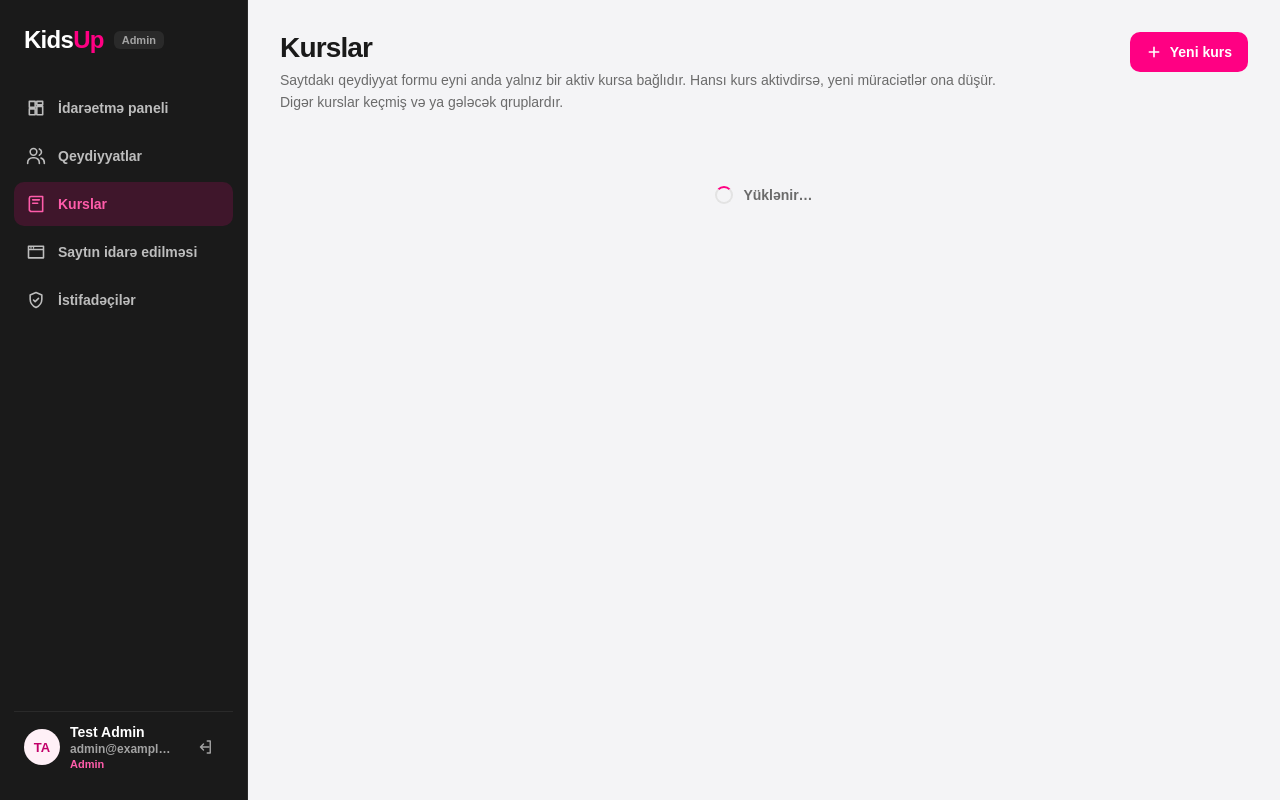
it: the dashboard › does not say that every new application was looked at while the list is still on its way
Expected: the navigation bar named "Admin menyu" is shown, [14,86,233,322]
Expected: the heading "Kurslar" is shown, [280,32,372,63]
Click the button "İdarəetmə paneli".
click(124, 108)  # box [14,86,233,130]
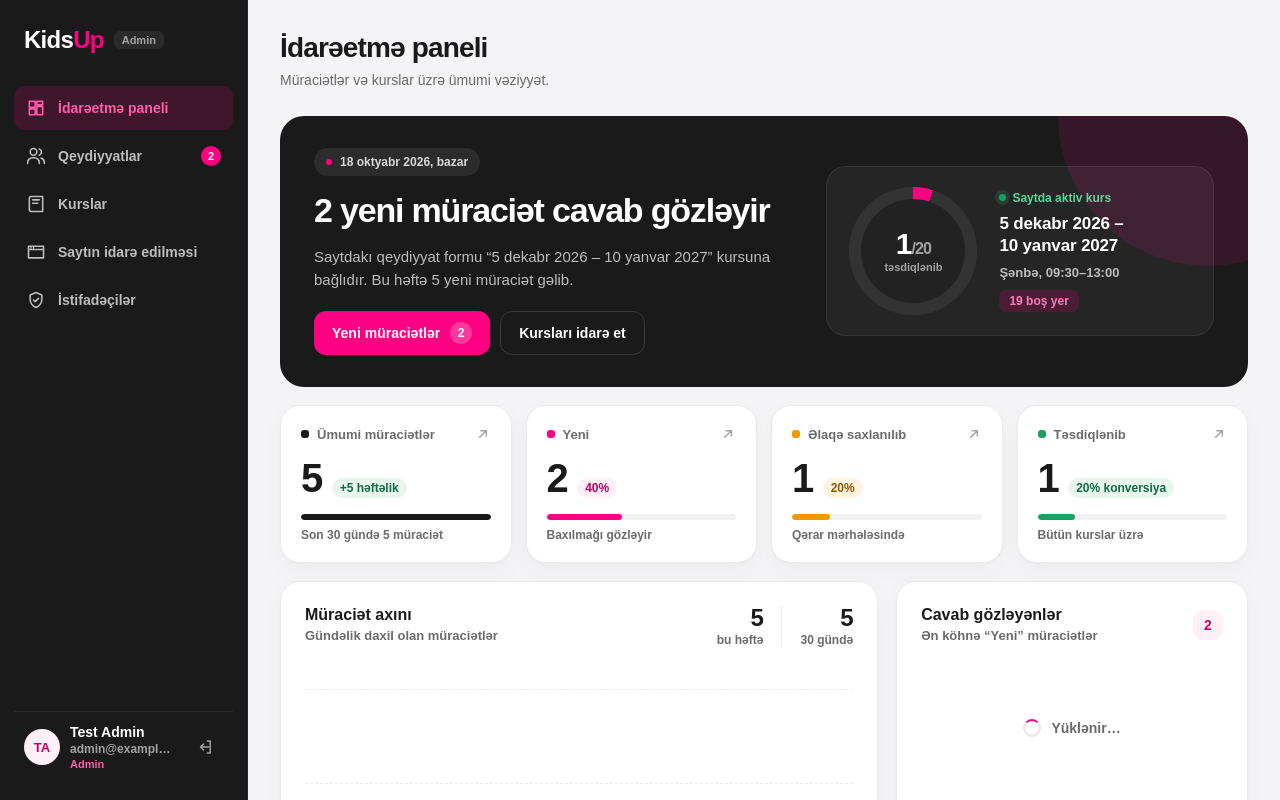
Expected: the message reads "Yüklənir…", [1051,720,1121,736]
Now the heading "Cavab gözləyənlər" is shown, box [921,606,1062,623]
